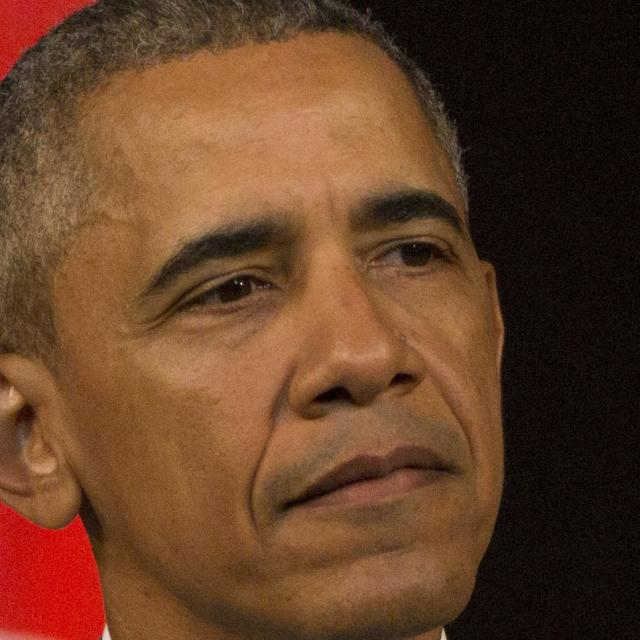Depress: (50, 35, 506, 639)
